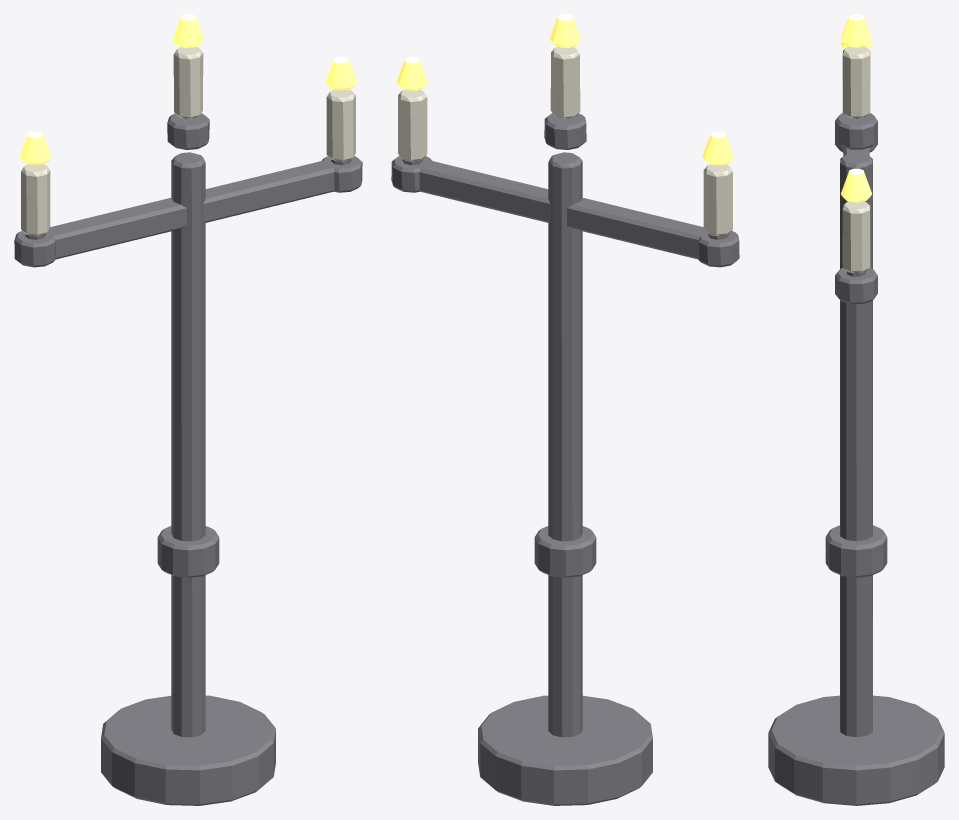
File: dgn_candelabra.glb
The picture shows the model from 3 angles, left to right: view 1: azimuth 30°, elevation 25°; view 2: azimuth 150°, elevation 25°; view 3: azimuth 270°, elevation 25°; orthographic projection.
Visible parts, largest first — view 1: dgn_candelabra; view 2: dgn_candelabra; view 3: dgn_candelabra.
Part boxes in pixels (bbox=[...]): dgn_candelabra: bbox=[14, 14, 362, 805]; dgn_candelabra: bbox=[391, 14, 739, 805]; dgn_candelabra: bbox=[768, 14, 944, 805].
Size of the model in its own units: 0.893 by 1.88 by 0.4.
